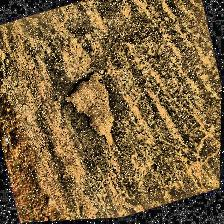pothole: (55, 63, 132, 163)
